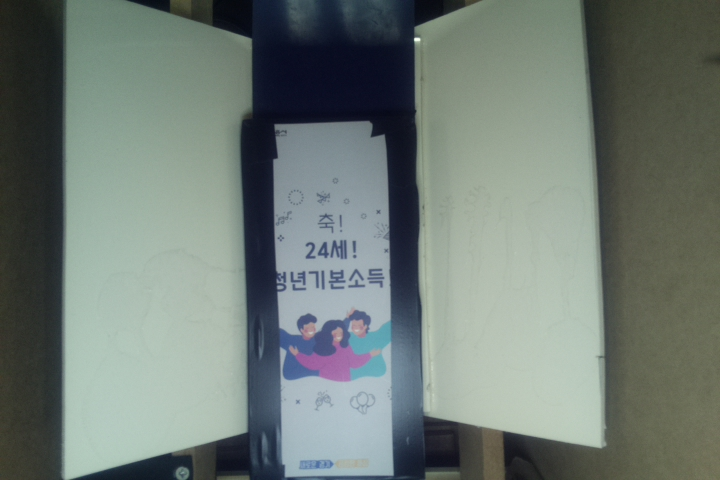book: (242, 115, 424, 480)
